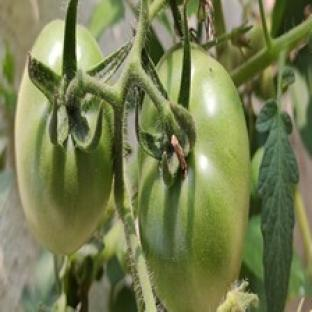Tomato: (138, 46, 249, 311), (16, 70, 112, 253), (251, 147, 264, 199)
